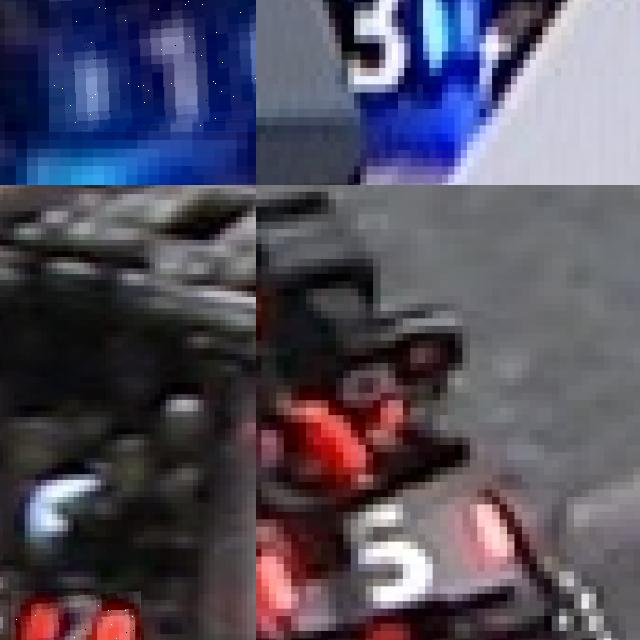B1: (49, 0, 256, 131)
B3: (316, 0, 441, 84)
R2: (11, 591, 141, 640)
